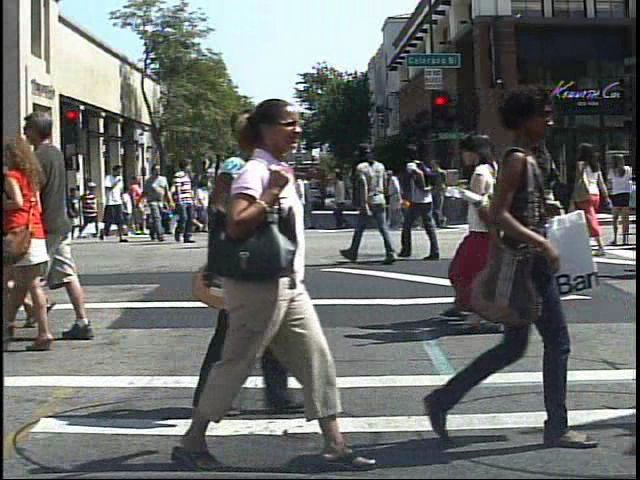person: (163, 82, 346, 478), (408, 78, 593, 462), (431, 129, 546, 345), (20, 101, 102, 345), (9, 126, 68, 351), (347, 135, 405, 273), (483, 128, 518, 343), (401, 141, 451, 264), (524, 127, 569, 262), (578, 136, 611, 259), (218, 147, 253, 250), (609, 147, 638, 245), (141, 158, 173, 245), (169, 158, 200, 244), (100, 161, 131, 246), (383, 164, 408, 236), (80, 180, 102, 244), (79, 183, 100, 228)
